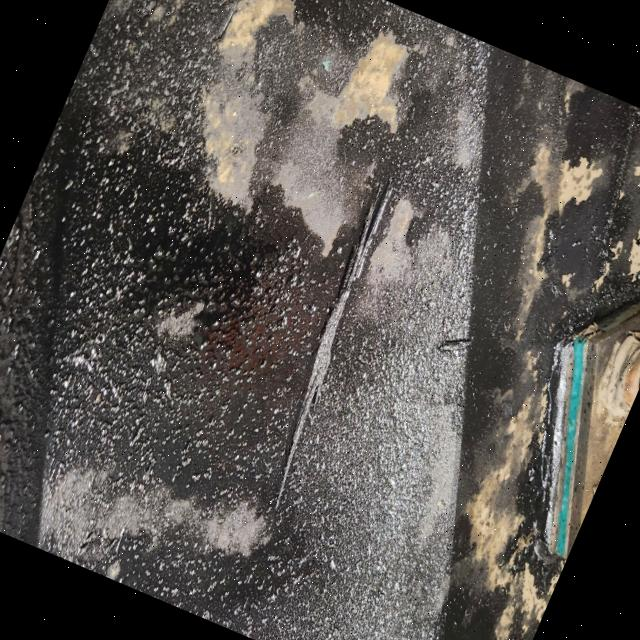blocks: (462, 240, 640, 595)
